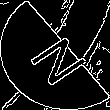N_NE: (19, 24, 91, 86)
